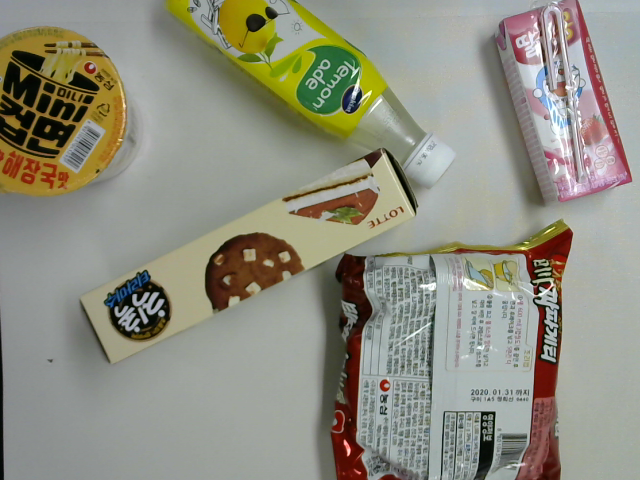Chicchok_Tiramisu: (77, 146, 422, 374)
Hejangmini: (1, 23, 128, 200)
Sichuan_Chapaghetti: (325, 213, 582, 480)
Strawberry_E_Mong: (491, 1, 634, 205)
Sunkist_Lemonaid_Pet: (155, 1, 461, 191)
